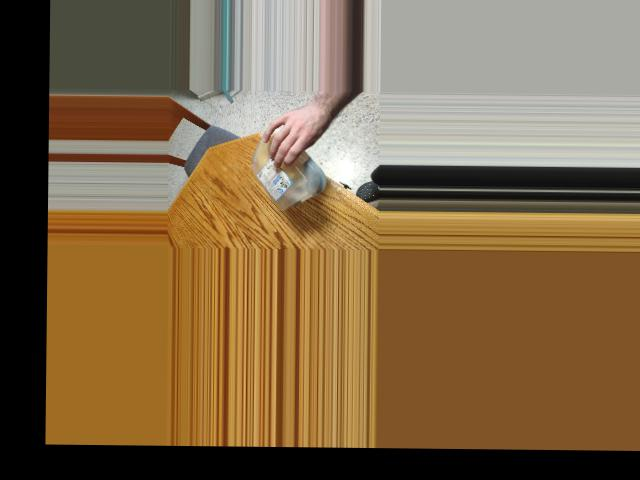cheese: (247, 117, 323, 212)
